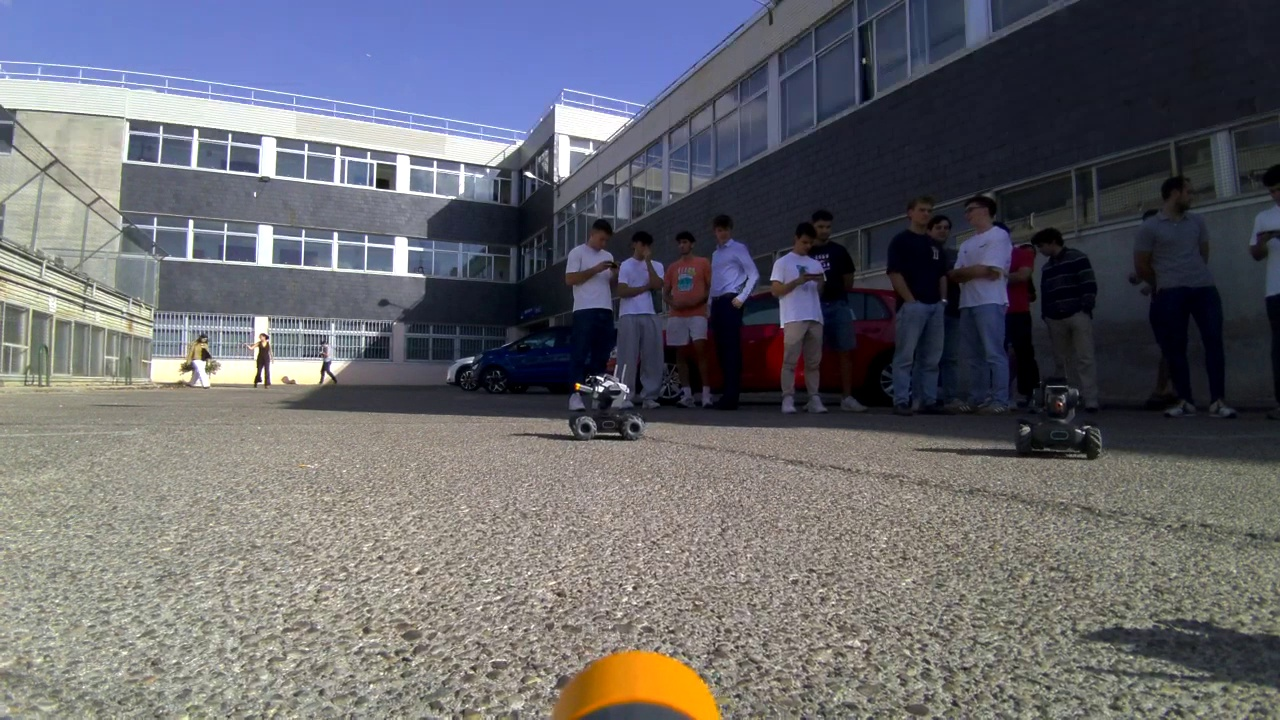robot: (1019, 377, 1100, 456), (567, 370, 644, 443)
